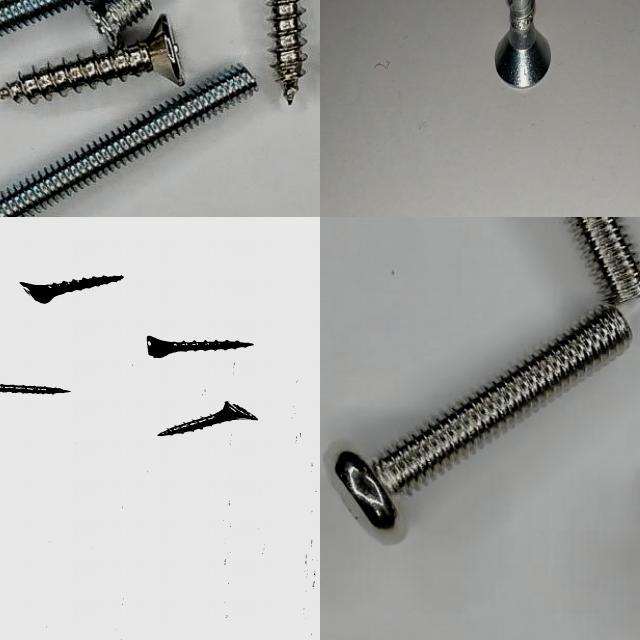Screw: (371, 306, 633, 497), (0, 65, 258, 217), (0, 16, 185, 103), (569, 217, 640, 304), (495, 0, 551, 87), (271, 0, 307, 105), (156, 401, 257, 436), (91, 0, 152, 48), (18, 275, 122, 303), (145, 336, 252, 358), (0, 384, 68, 394)
